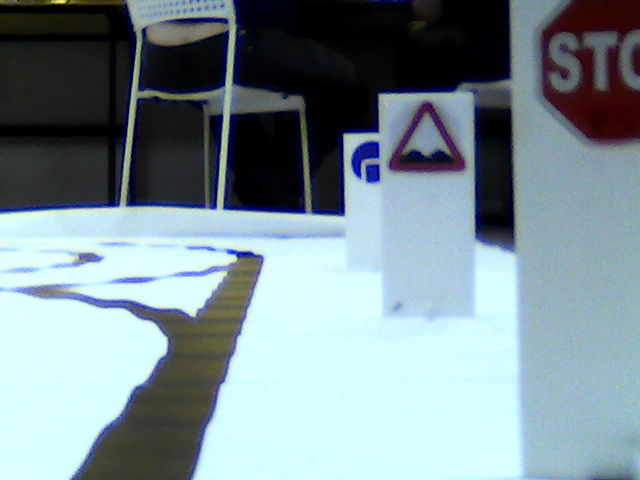Nerov: (389, 98, 467, 178)
Right: (350, 141, 382, 184)
